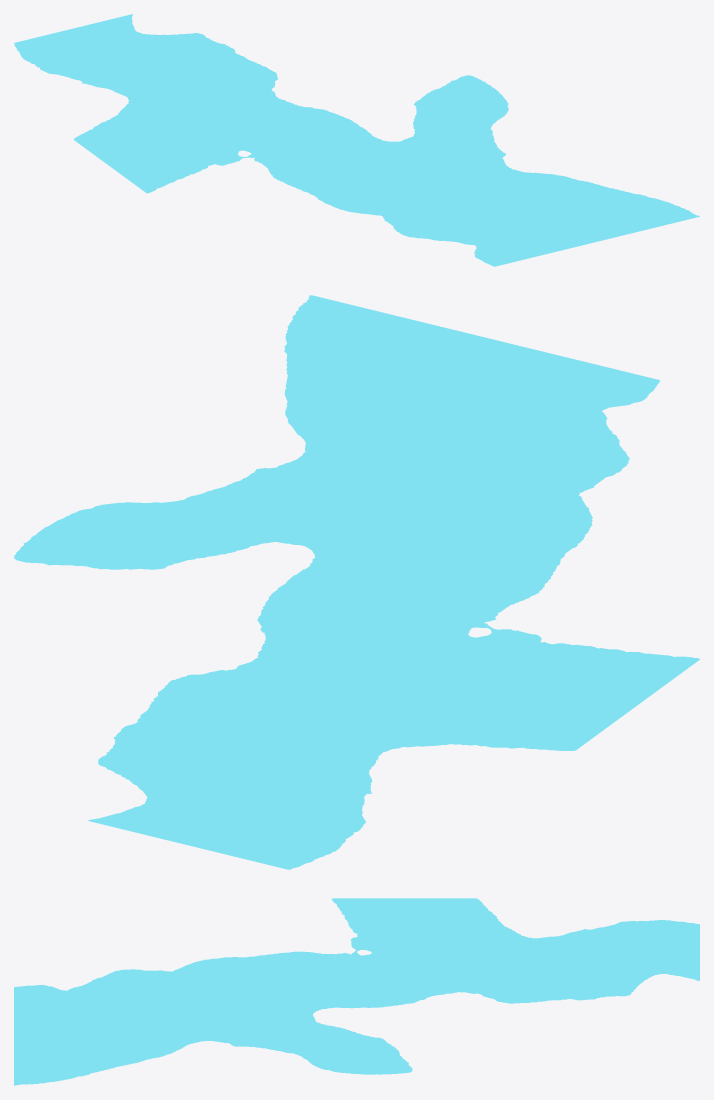
Rendered from Frymburk_Vltava_soucasny_tok_RUIAN.glb.
3 views of the same model, one above another, from view 1: azimuth 30°, elevation 25°; view 2: azimuth 150°, elevation 25°; view 3: azimuth 270°, elevation 25° (orthographic). The views are drawn at different scales.
Parts seen in each view (by area): view 1: Vltava_soucasny_tok; view 2: Vltava_soucasny_tok; view 3: Vltava_soucasny_tok.
Boxes of the visible parts, x1,y1,x2,y2 form: Vltava_soucasny_tok: (14, 14, 699, 266); Vltava_soucasny_tok: (14, 295, 699, 869); Vltava_soucasny_tok: (14, 898, 699, 1085).
Size of the model in its own units: 1176 by 0 by 1818.
